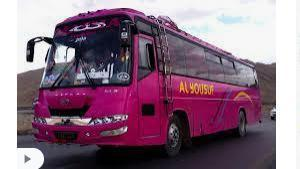bus: (26, 7, 262, 159)
